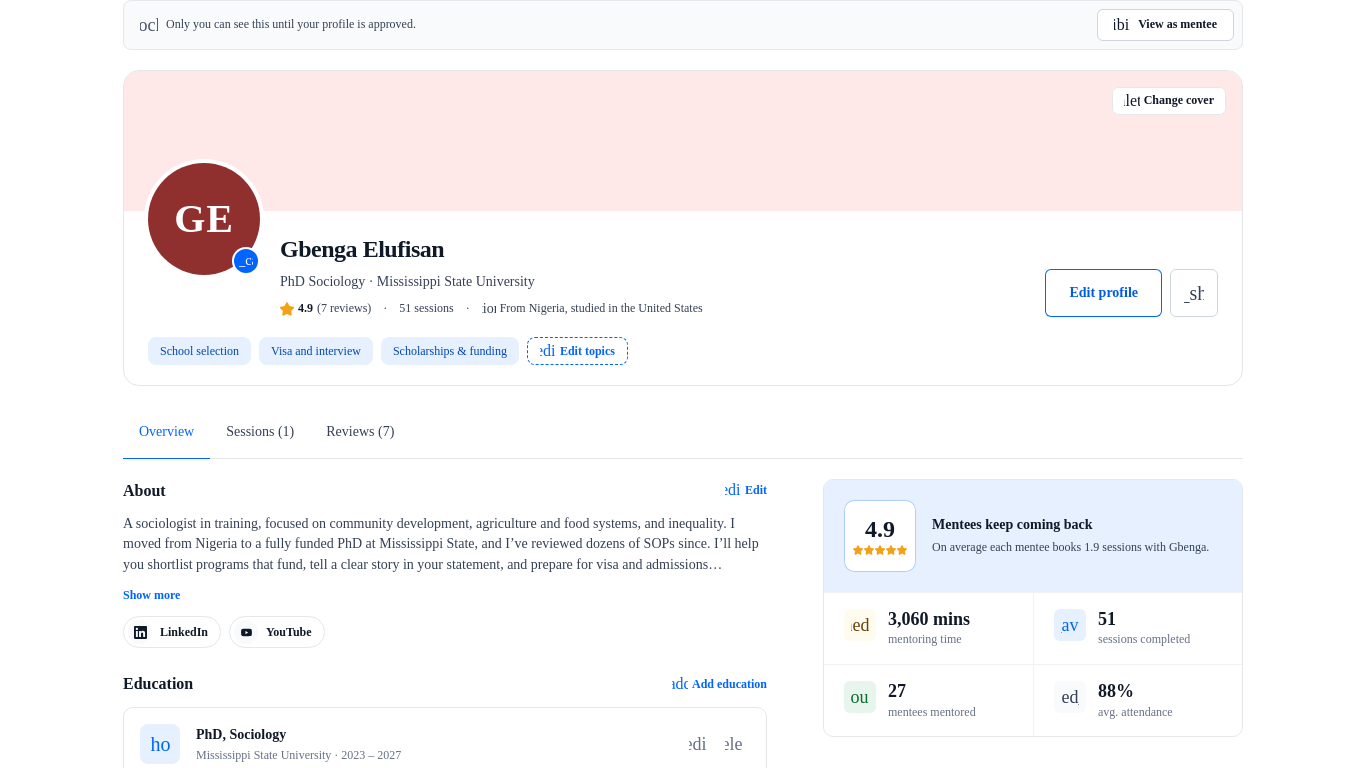
Test case: MentorProfileScreen — the owner’s share note › pending: who can see it until approved, and the options still work
Click the button with aria-label "Share profile" at coordinates (1194, 294), box 1170,270 -> 1218,318
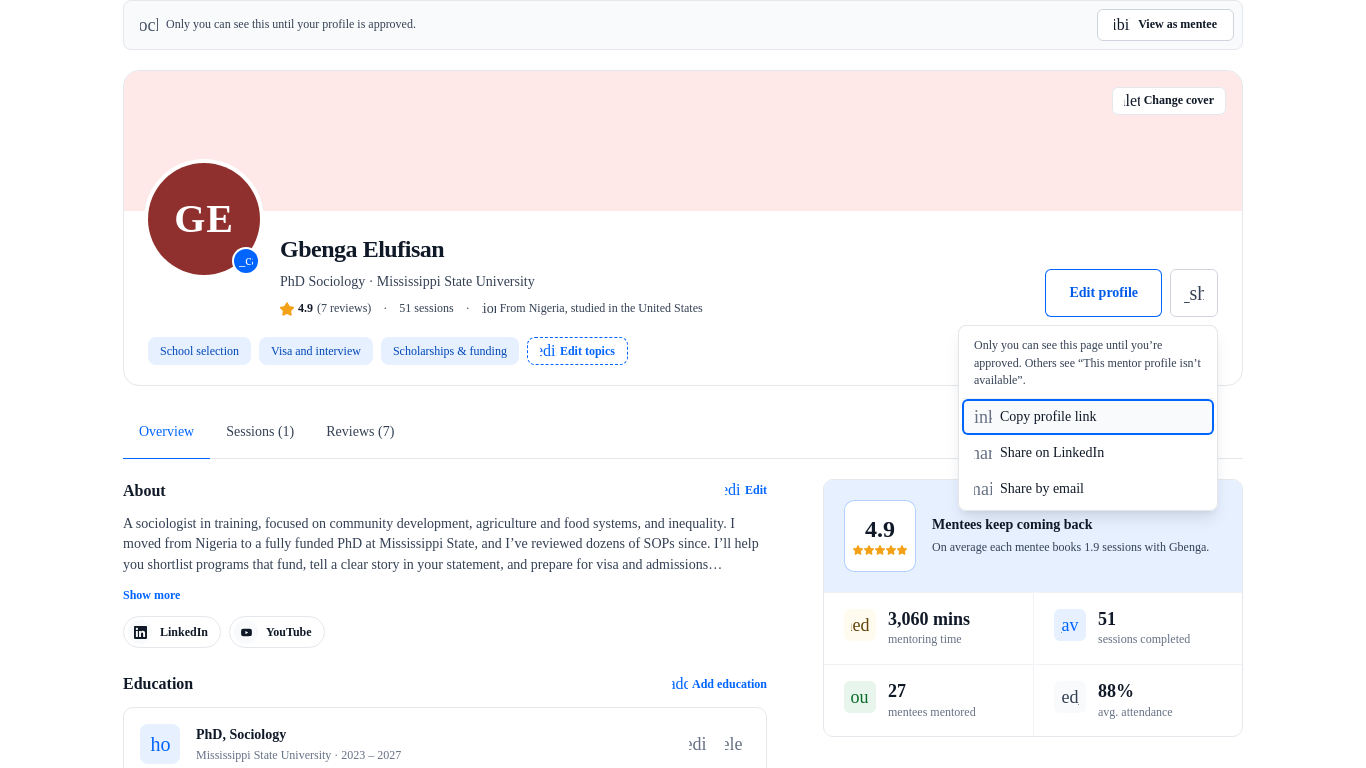
expect the menu item "link Copy profile link" is shown: met, box 962,399 -> 1214,435
